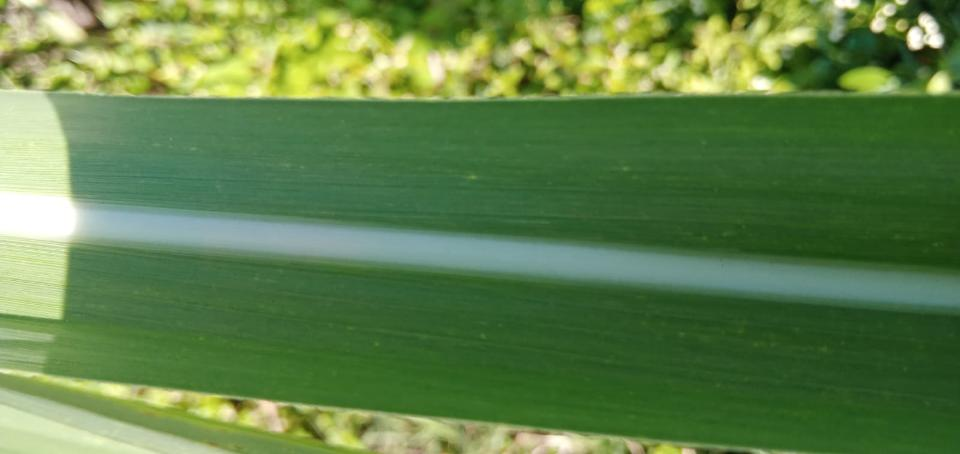Healthy: (0, 91, 959, 454)
